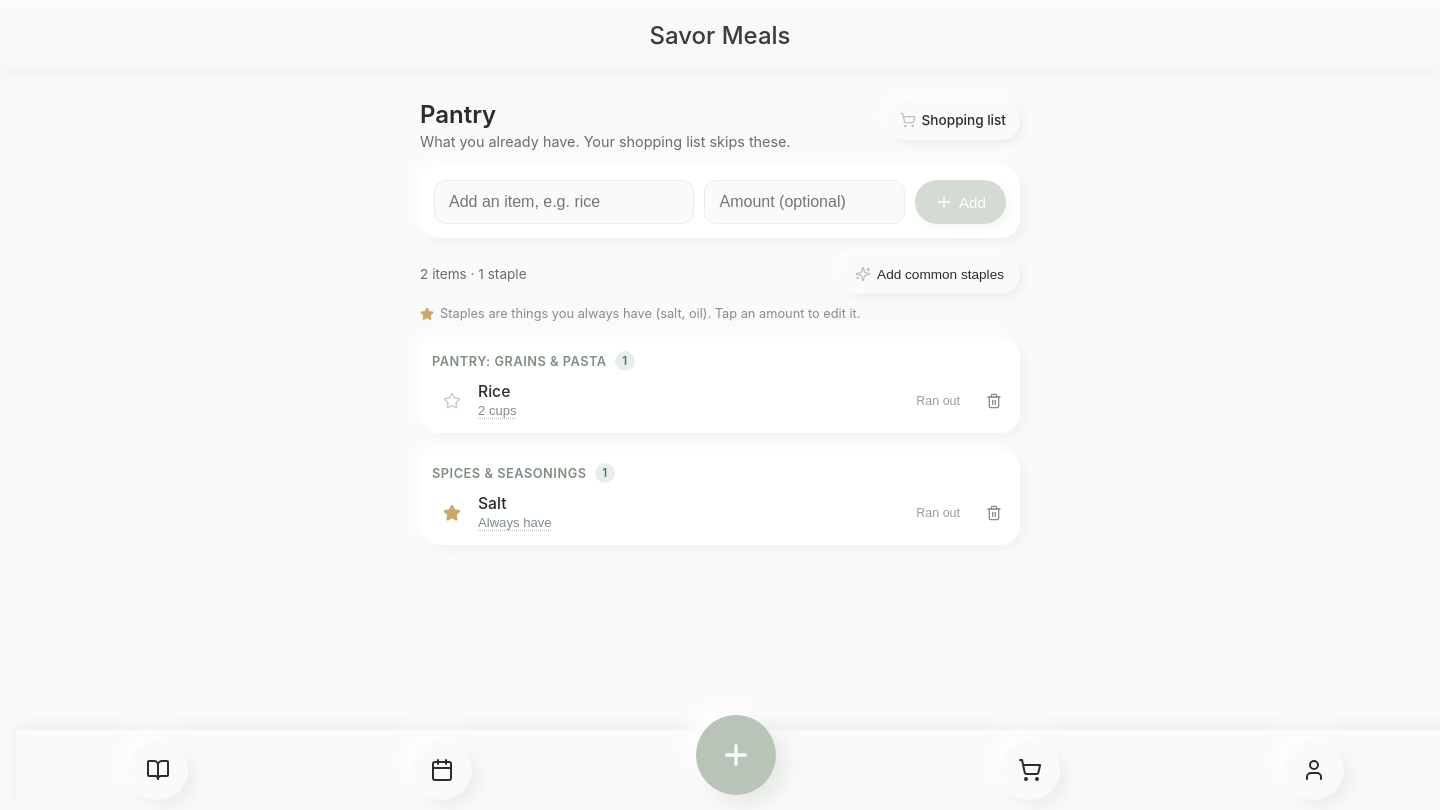
it: PantryPage › groups items by aisle and adds a new item
This screenshot has width=1440, height=810.
Check: the heading "Spices & Seasonings 1" is shown, box [432,463,615,483]
Check: the heading "Pantry: Grains & Pasta 1" is shown, box [432,351,635,371]
Type "bananas" into the field named "Item name" at (564, 202), box [434,180,694,224]
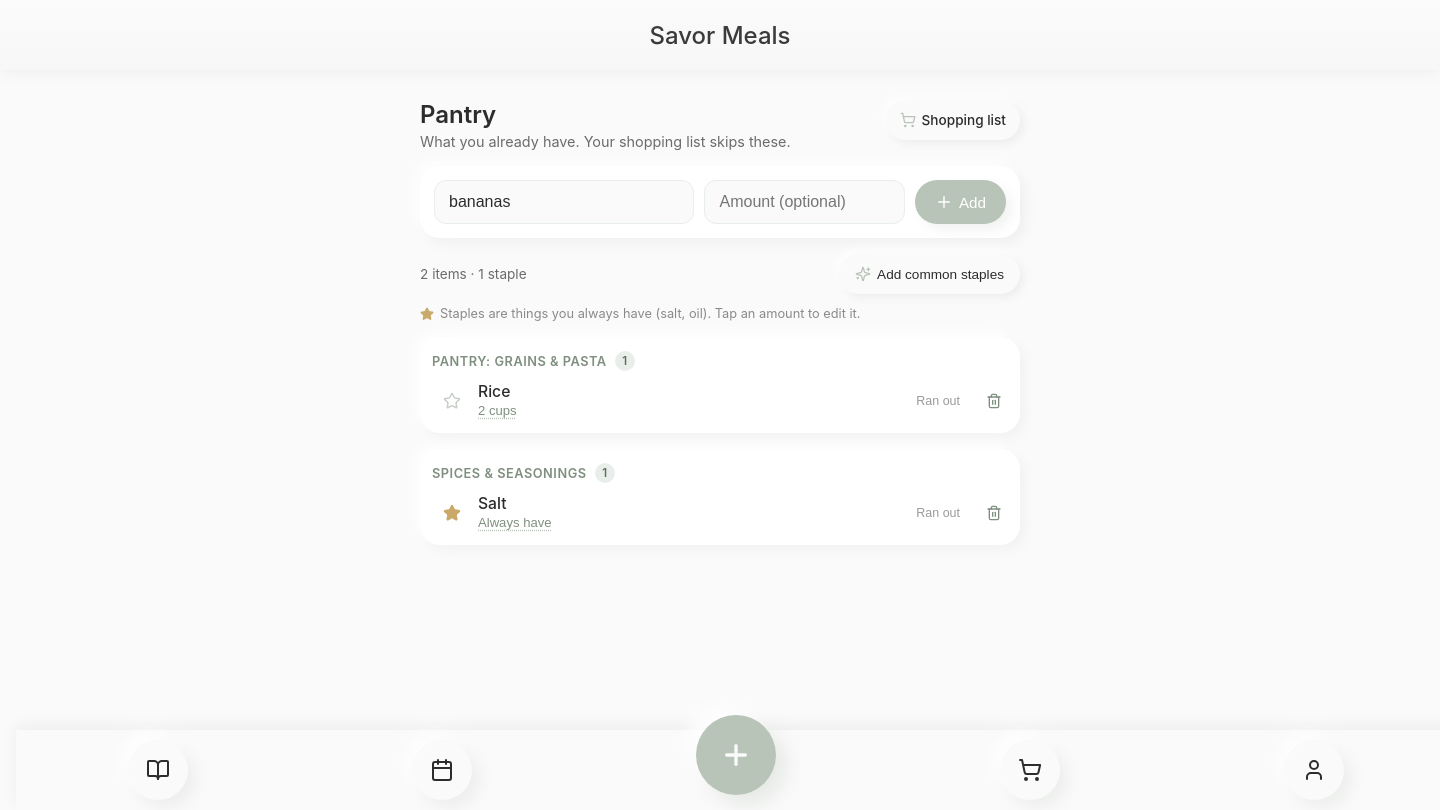
Type "3" into the field named "Amount, optional" at (805, 202), box [704,180,905,224]
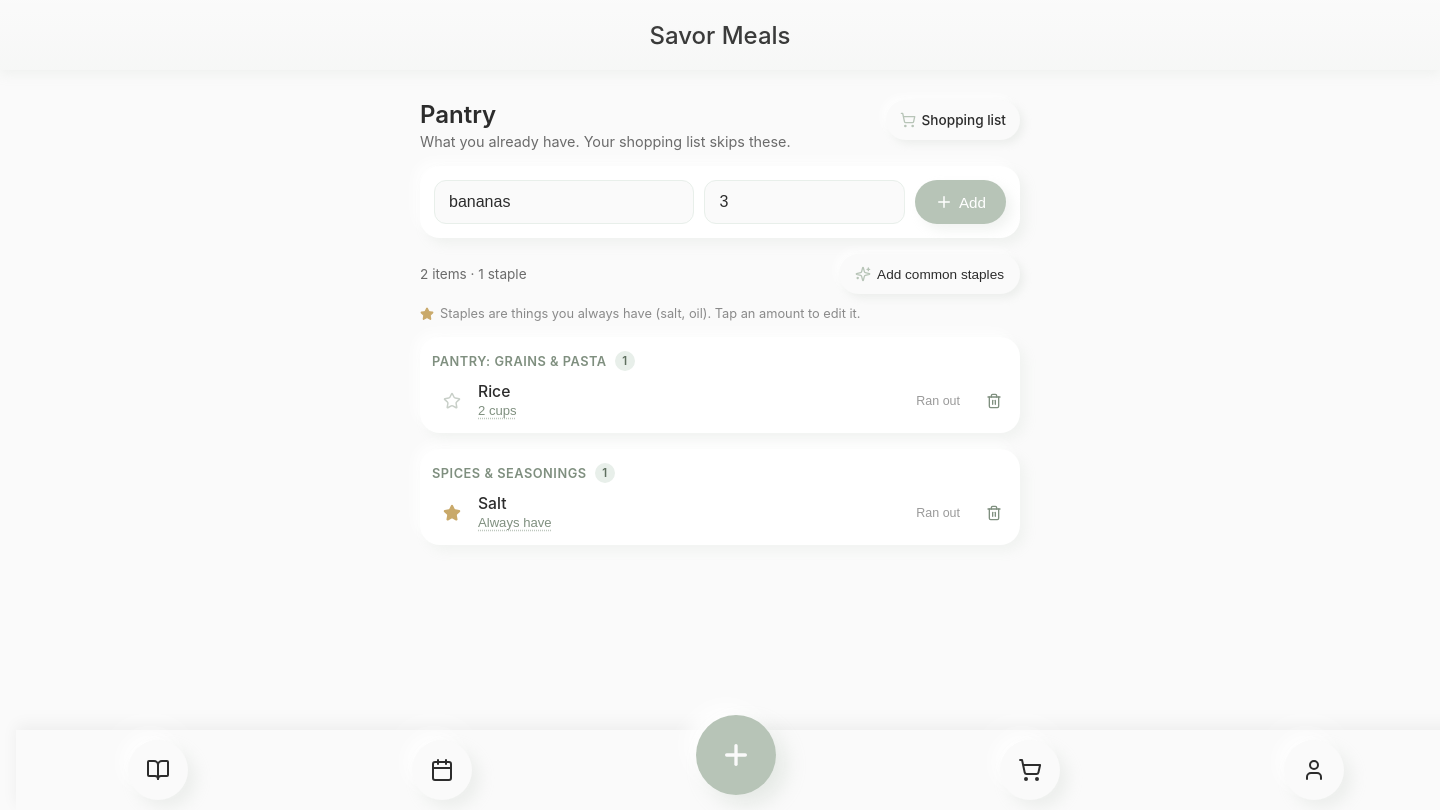
Click the button "Add" at (960, 202), box [915,180,1006,224]
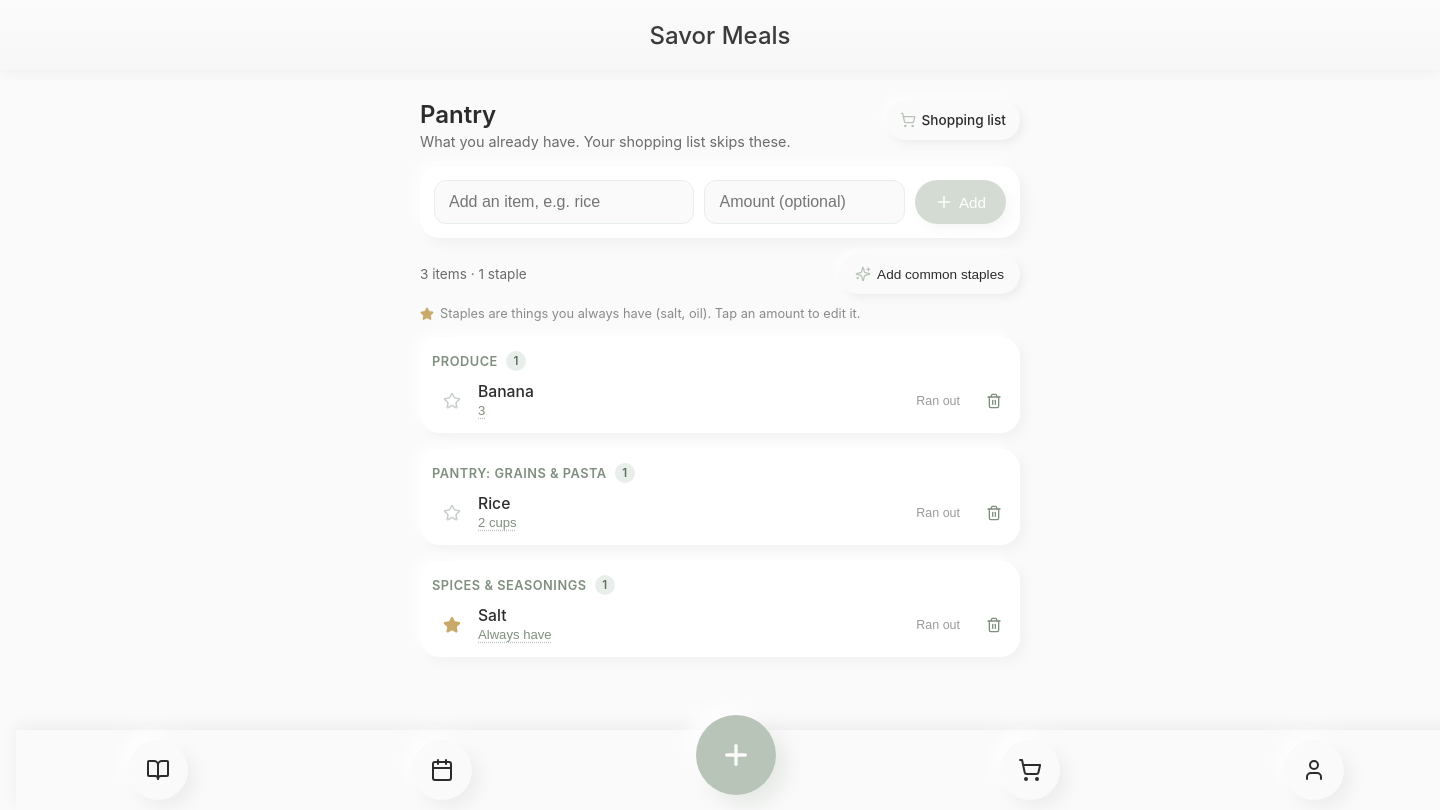
Check: the text "Banana" is shown, box [478,382,534,401]
Check: the heading "Produce 1" is shown, box [432,351,526,371]
